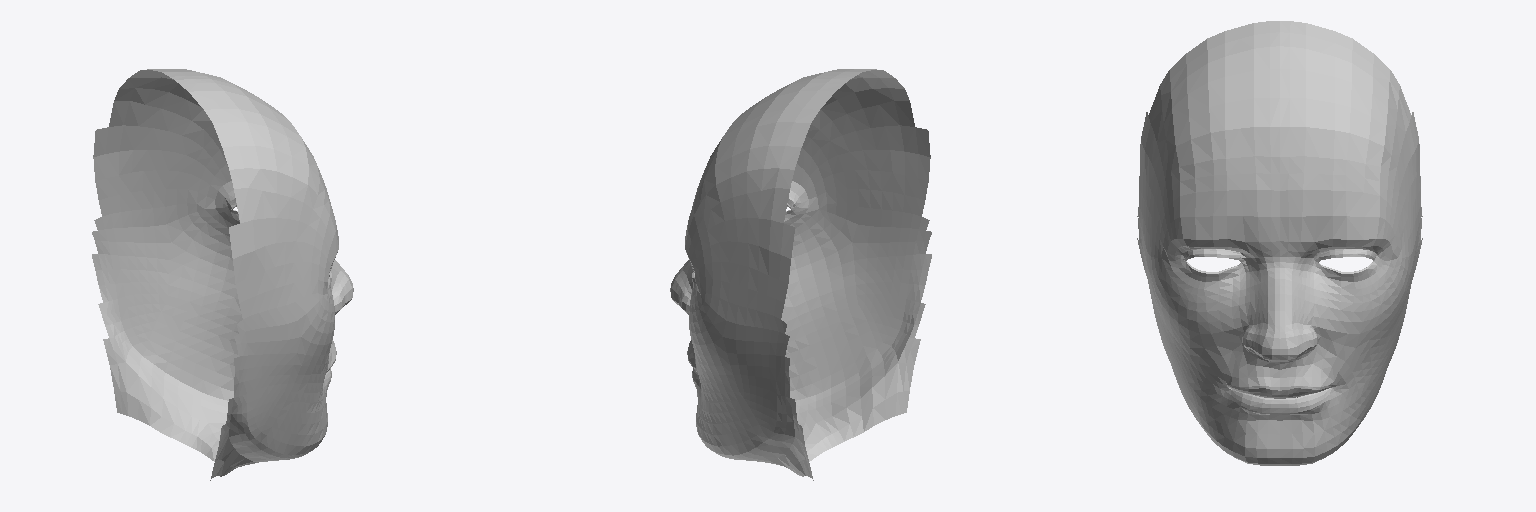
3 views of the same model, side by side, from view 1: azimuth 30°, elevation 25°; view 2: azimuth 150°, elevation 25°; view 3: azimuth 270°, elevation 25° (orthographic).
Visible parts, largest first — view 1: male_head:object0; view 2: male_head:object0; view 3: male_head:object0.
Part boxes in pixels (x1,y1,x2,y2): male_head:object0: (92, 69, 353, 480); male_head:object0: (670, 69, 931, 480); male_head:object0: (1137, 21, 1422, 465).
Bounding box in the file's own units: 1.11 × 2.2 × 1.46.